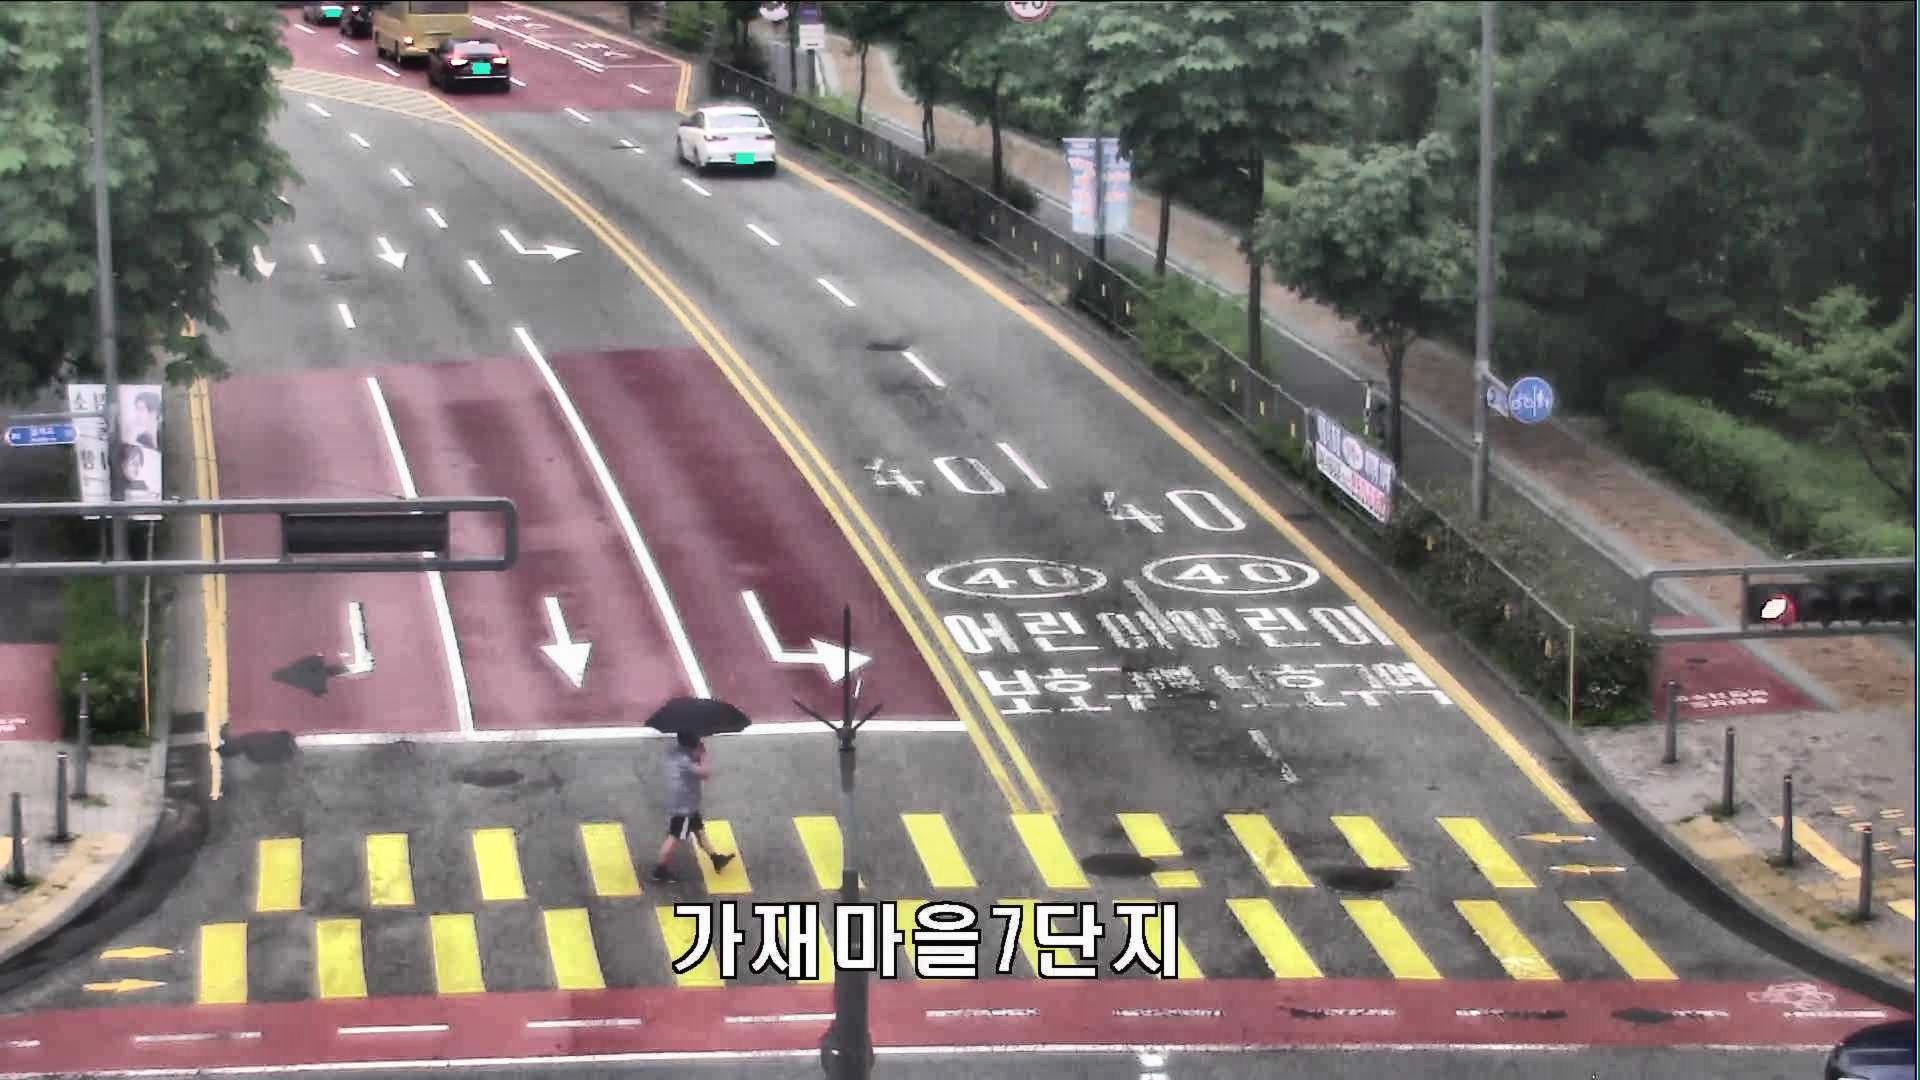um_crosswalk: (645, 698, 752, 886)
